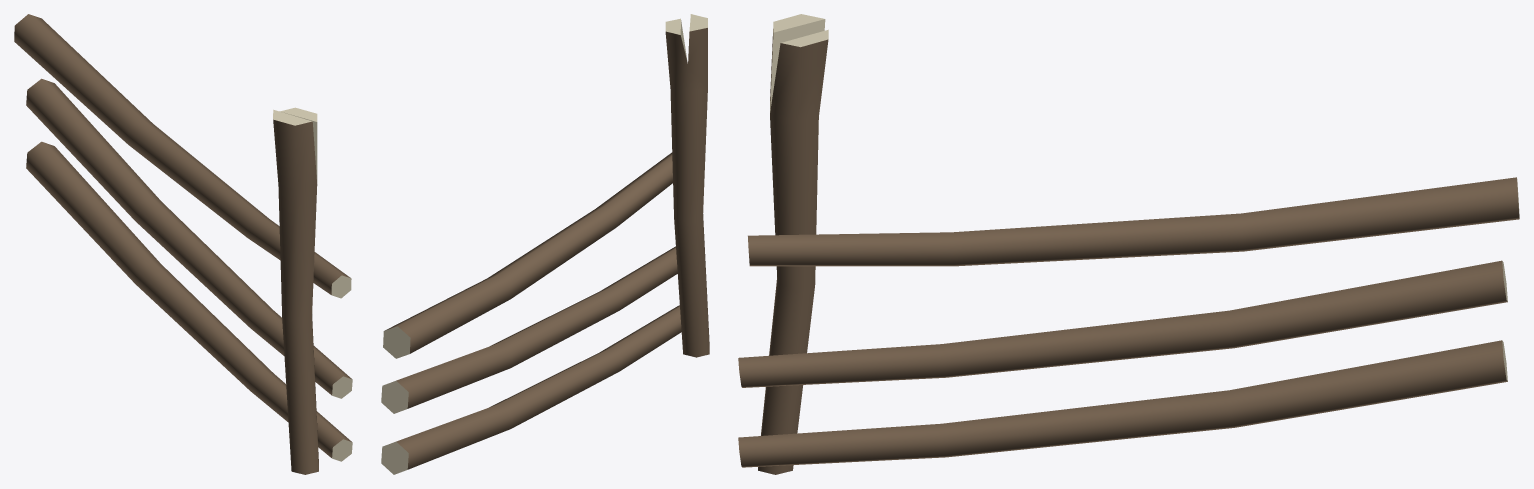
The model's file is P_Fence_03_LD.fbx.
The picture shows the model from 3 angles, left to right: view 1: azimuth 30°, elevation 25°; view 2: azimuth 150°, elevation 25°; view 3: azimuth 270°, elevation 25°; orthographic projection. The views are drawn at different scales.
Visible parts, largest first — view 1: P_Fence_03; view 2: P_Fence_03; view 3: P_Fence_03.
Part boxes in pixels (box(x1,y1,x2,y2)): P_Fence_03: box(14, 14, 352, 474); P_Fence_03: box(381, 14, 709, 474); P_Fence_03: box(738, 14, 1519, 474).
Size of the model in its own units: 23.52 by 133 by 214.
1 material, 1 textured.
